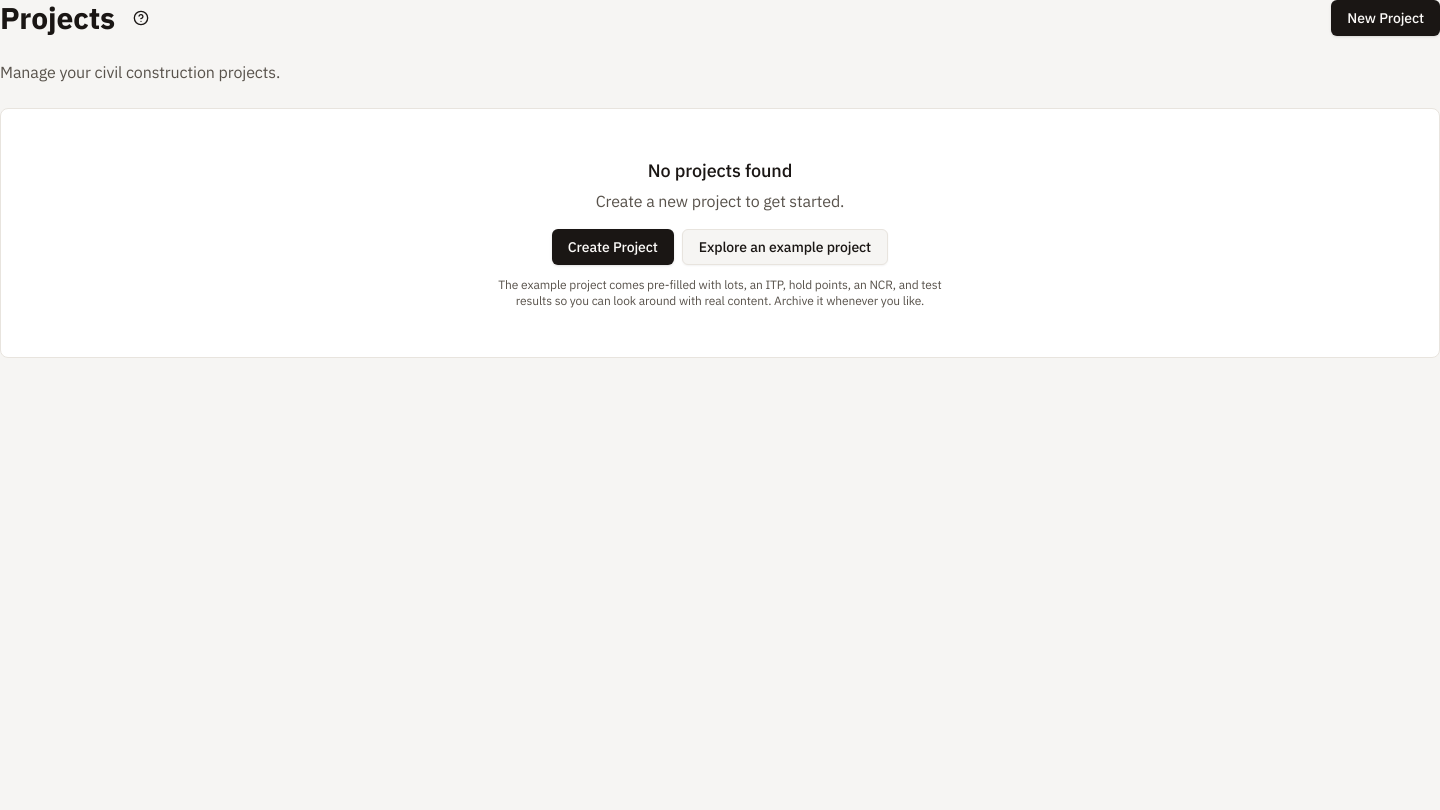
Test: ProjectsPage company-onboarding gating › defaults the specification set from state and removes unrelated state specs
The image size is (1440, 810).
Click the button "New Project" at {"x": 1386, "y": 18}, box [1331,0,1439,36]
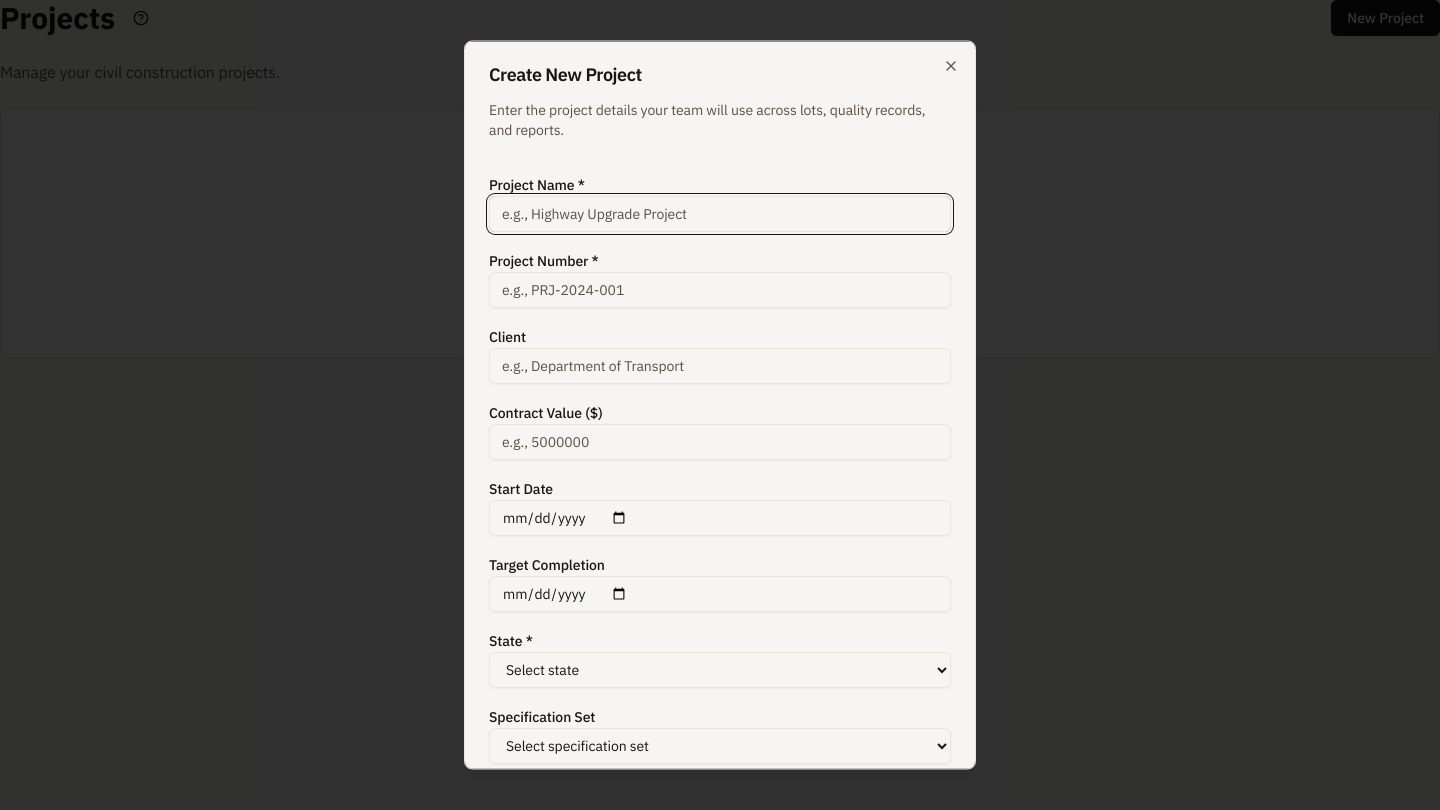
Select "Queensland" in the dropdown labelled "State *" at {"x": 720, "y": 670}, box [489,652,951,688]
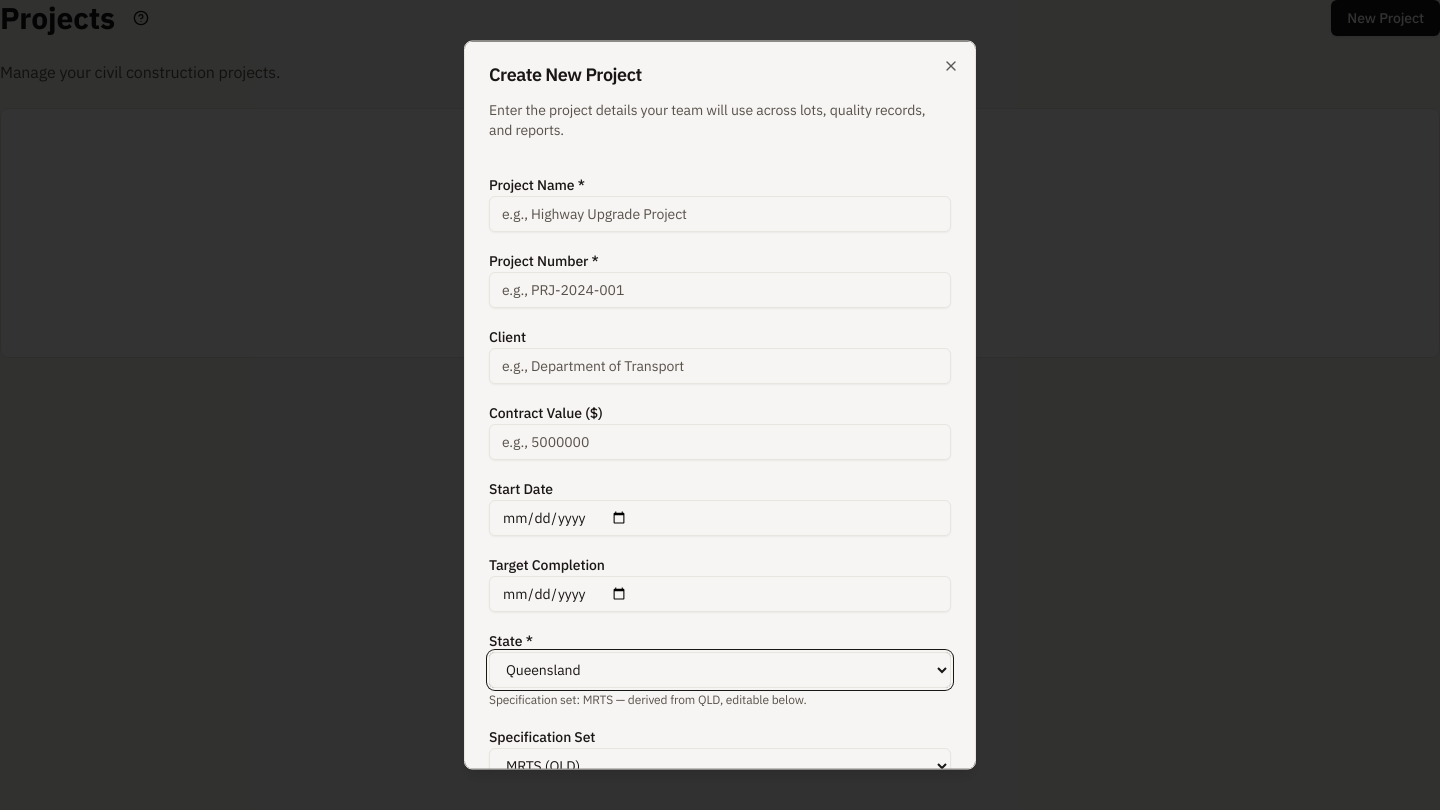
Result: the dropdown labelled "Specification Set" shows "MRTS (QLD)" at [489,748,951,770]
